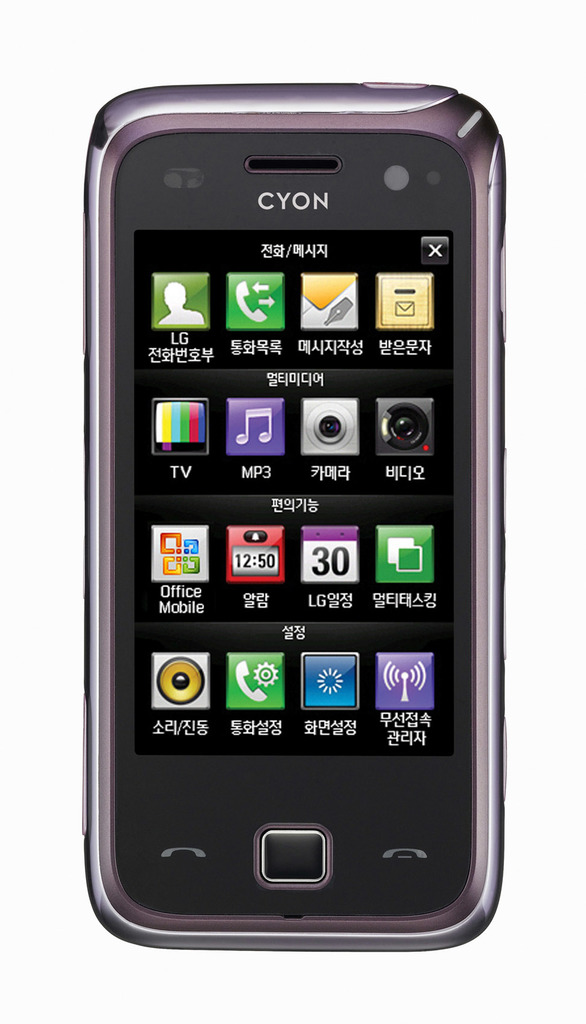Mobile-phone: (67, 72, 519, 957)
